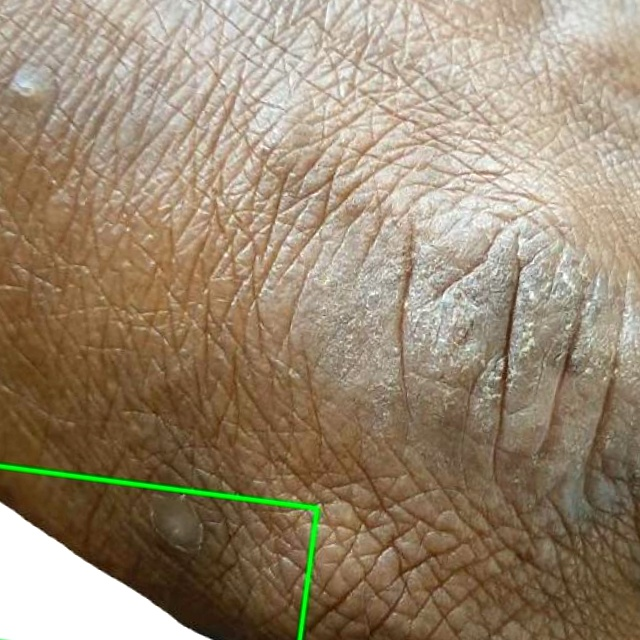Eczema: (0, 466, 317, 639)
